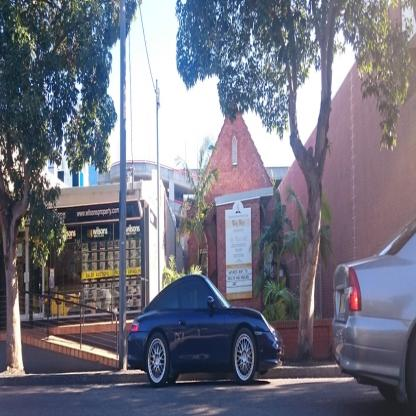Car: (131, 268, 287, 384), (329, 215, 416, 415)
